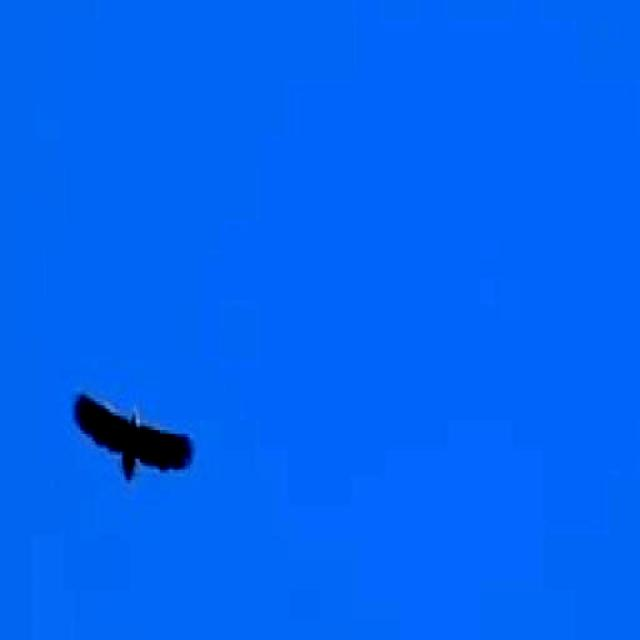airplane: (61, 371, 198, 504)
